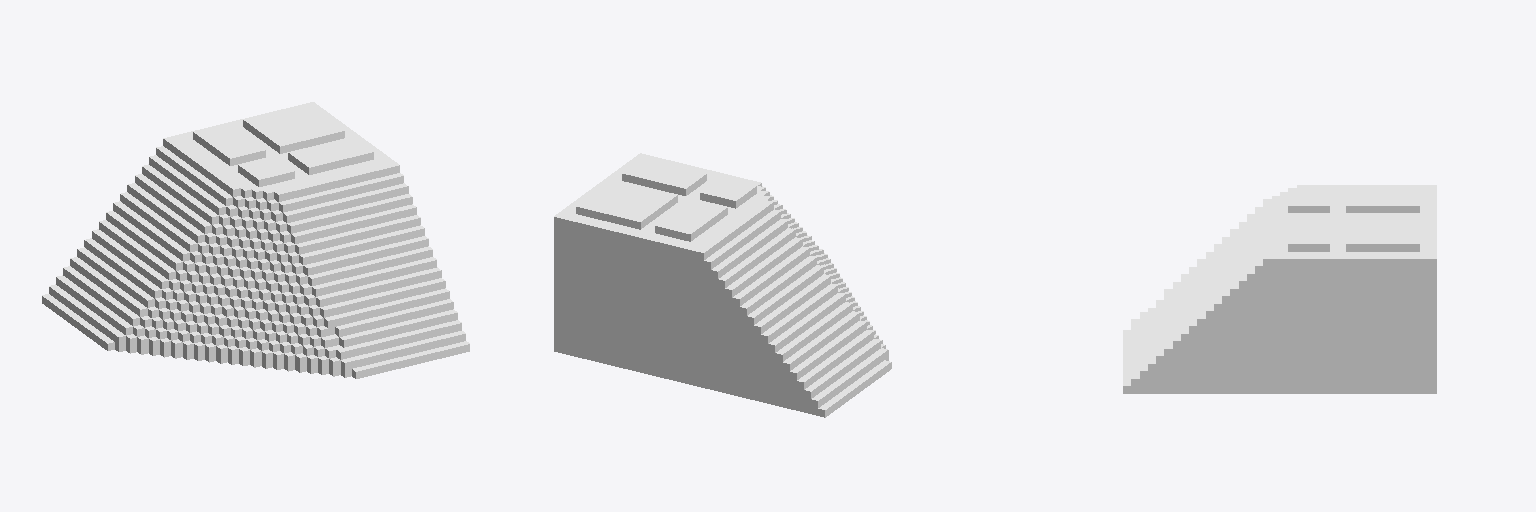
The model's file is gym-80.obj.
3 renders of one model, left to right at view 1: azimuth 30°, elevation 25°; view 2: azimuth 150°, elevation 25°; view 3: azimuth 270°, elevation 25°, orthographic.
Parts seen in each view (by area): view 1: object 1; view 2: object 1; view 3: object 1.
Boxes of the visible parts, box(x1,y1,x2,y2) form: object 1: box(42, 102, 469, 378); object 1: box(554, 153, 891, 417); object 1: box(1123, 185, 1436, 393).
Bounding box in the file's own units: 3.8 × 1.9 × 3.8.